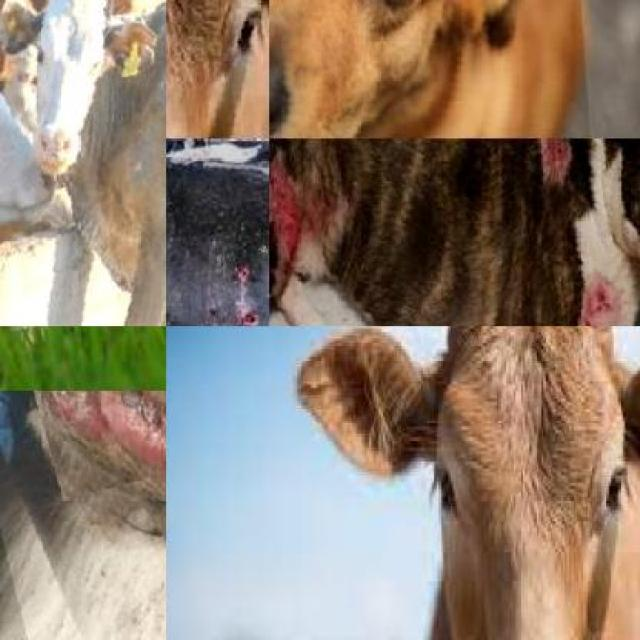cow: (392, 326, 640, 640), (0, 0, 166, 326), (166, 0, 269, 138)
dog: (269, 139, 640, 326), (269, 0, 600, 138), (0, 391, 166, 640)
injured: (26, 391, 166, 500), (269, 192, 323, 326), (577, 242, 623, 326), (209, 294, 269, 326), (511, 138, 552, 171), (208, 238, 238, 274), (280, 138, 314, 168)
